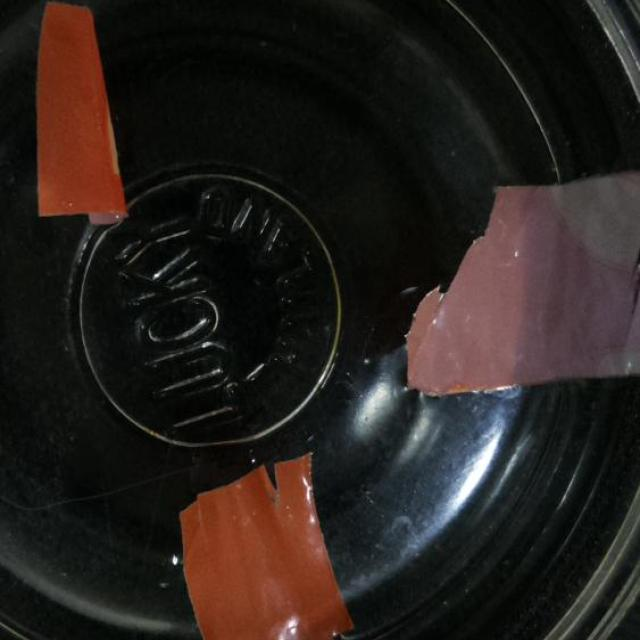fiber: (390, 168, 639, 395), (168, 446, 363, 639), (19, 0, 134, 238)
